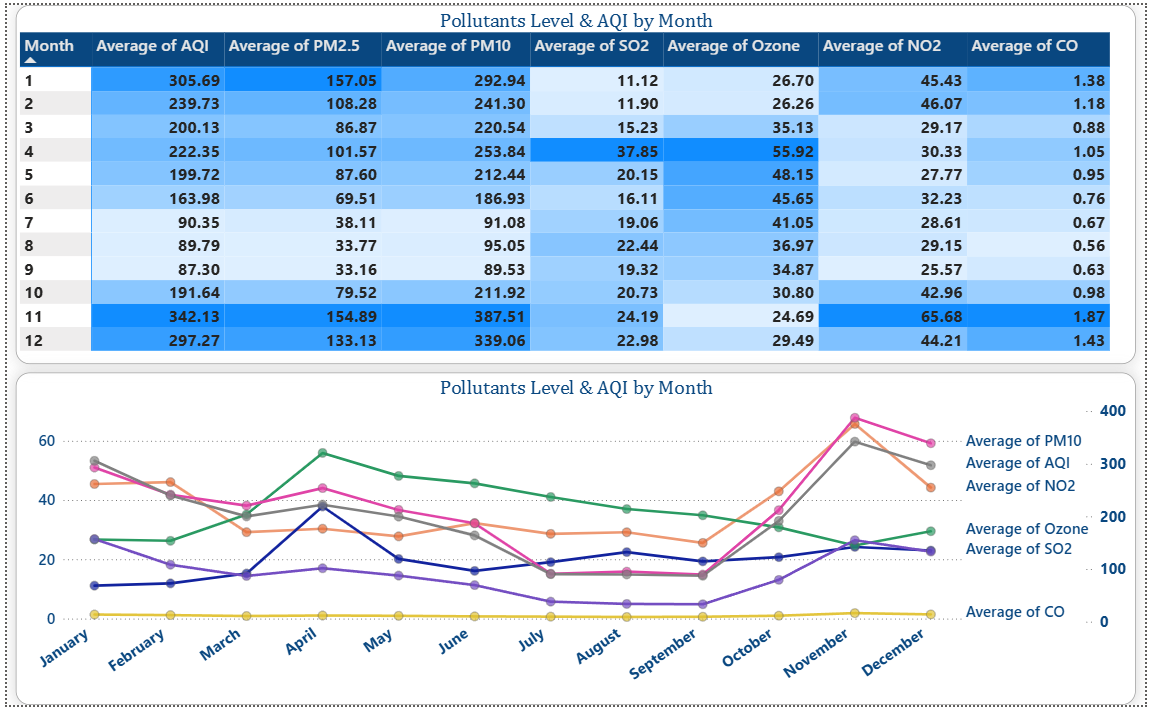

What the dashboard file says about the page in this screenshot:
{"tool":"powerbi","page":{"name":"Pollutants Level by Month","canvas":[1300,800],"ordinal":1},"visuals":[{"type":"lineChart","title":"Pollutants Level by Month","fields":{"Category":["Date.Calender Date.Variation.Date Hierarchy.Month"],"Y":["Avg(Pollutants_Gas.NO2)","Avg(Pollutants_Gas.SO2)","Avg(Pollutants_Gas.Ozone)","Avg(Pollutants_Gas.CO)"],"Y2":["Avg(Pollutants_PM.PM10)","Avg(Pollutants_PM.PM2.5)"]},"box":[71.4,420,1157.1,380],"z":0},{"type":"pivotTable","title":"Pollutants Level by Month","fields":{"Values":["Avg(Pollutants_PM.PM2.5)","Avg(Pollutants_PM.PM10)","Avg(Pollutants_Gas.SO2)","Avg(Pollutants_Gas.Ozone)","Avg(Pollutants_Gas.NO2)","Avg(Pollutants_Gas.CO)"],"Rows":["Date.Calender Date.Variation.Date Hierarchy.Month"]},"box":[71.4,0,1157.1,410],"z":1}]}

Visuals, with their boxes in screenshot pixels (x1, y1, x2, y2), scaled from the page's 1300x800 canvas onto the 1150x710 screenshot:
"Pollutants Level by Month" lineChart: {"x1": 63, "y1": 373, "x2": 1087, "y2": 709}
"Pollutants Level by Month" pivotTable: {"x1": 63, "y1": 0, "x2": 1087, "y2": 364}
